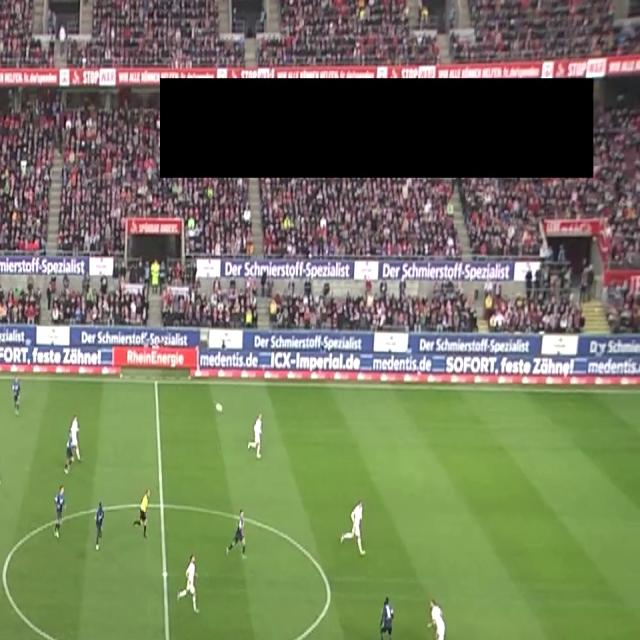ball: (214, 397, 226, 425)
referee: (132, 483, 156, 539)
soccer-player: (338, 497, 373, 565), (175, 551, 208, 620), (227, 503, 258, 563), (60, 412, 87, 478), (423, 594, 457, 640), (48, 482, 73, 544), (85, 499, 110, 558), (247, 410, 273, 463), (378, 589, 403, 640), (5, 372, 26, 418), (0, 431, 7, 488)
